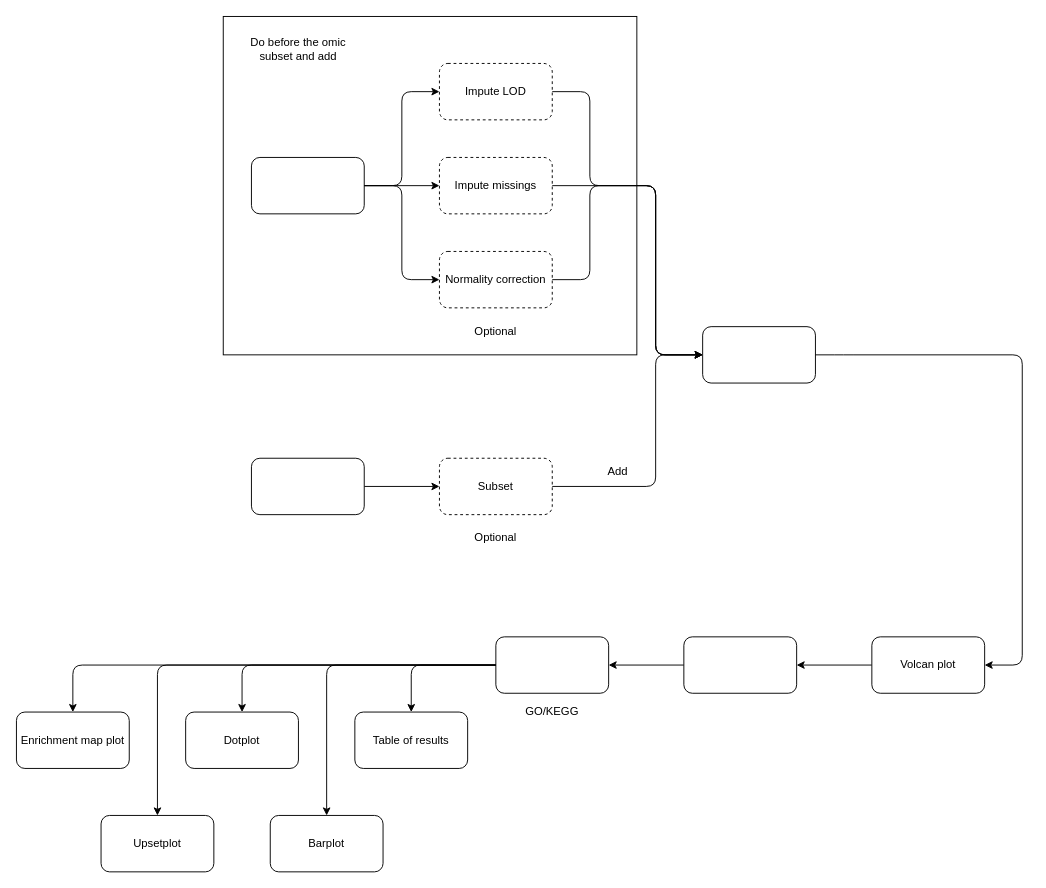
The diagram is 1046 pixels wide and 888 high, and some of its shapes have lost their labels. The shapes that lost their labels are listed below. From the top down, each one's centre as x and y in pixels, then its label:
(x=307, y=185): Load exposome data
(x=758, y=354): Choose model
(x=307, y=486): Load omic data
(x=552, y=664): Enrichment analysis
(x=740, y=664): Interesting point selection, add to query
